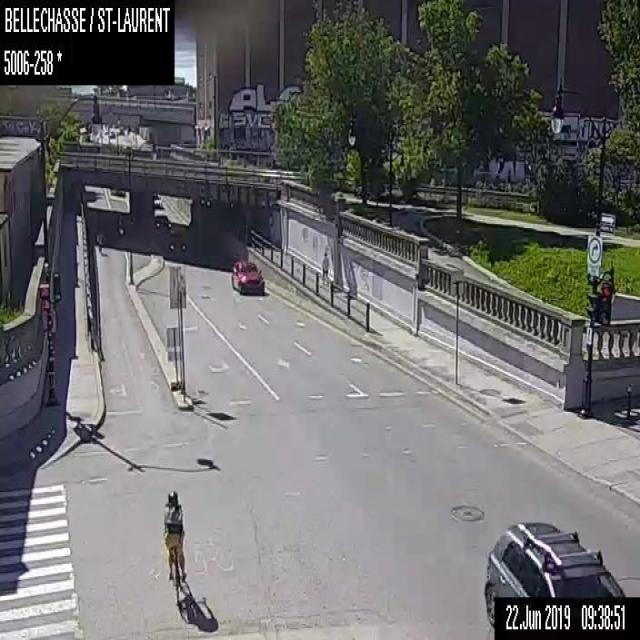cyclist: (162, 488, 187, 604)
pedestrian: (321, 250, 328, 286), (95, 230, 104, 253)
vehicle: (482, 519, 624, 628), (231, 259, 264, 295), (154, 214, 171, 229), (154, 195, 161, 208)
